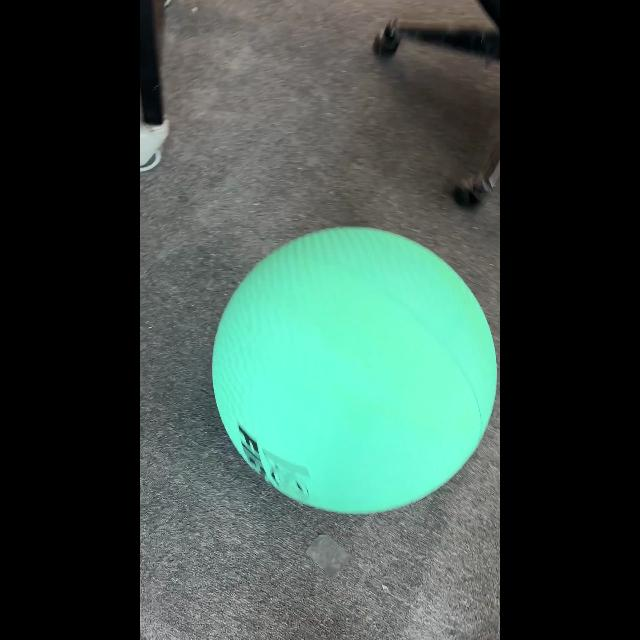ALGAE: (211, 225, 497, 515)
